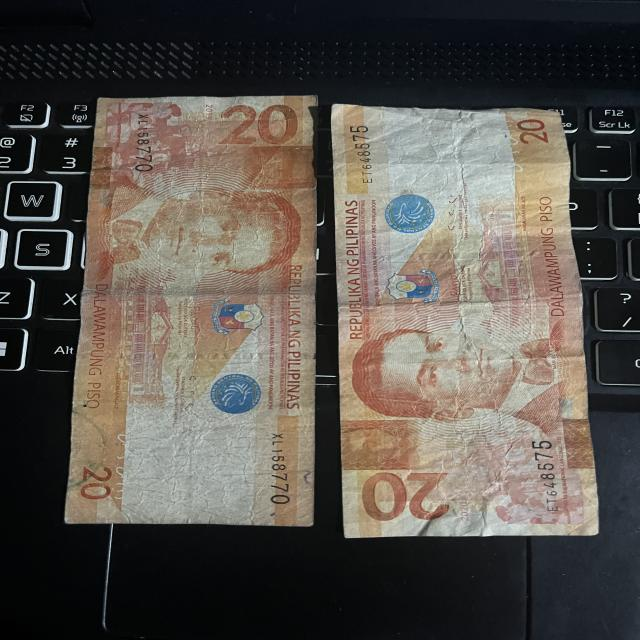concealed_value: (342, 423, 423, 469), (239, 144, 314, 190)
see_through_mark: (110, 427, 156, 505)
serial_number: (256, 427, 303, 511), (134, 109, 160, 175)
value: (352, 464, 458, 528), (207, 99, 309, 154)
